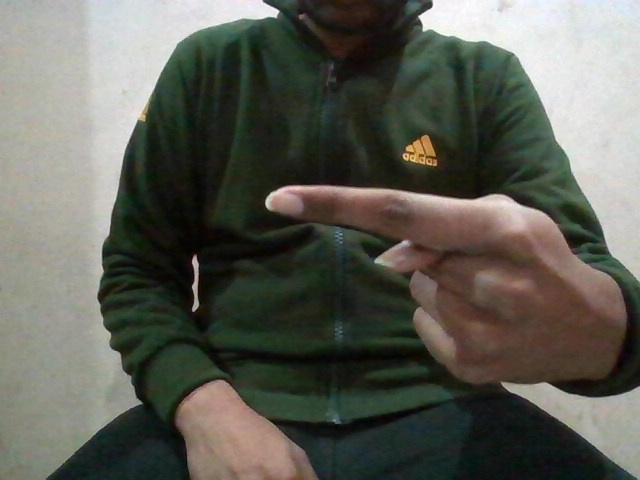G: (261, 178, 619, 385)
